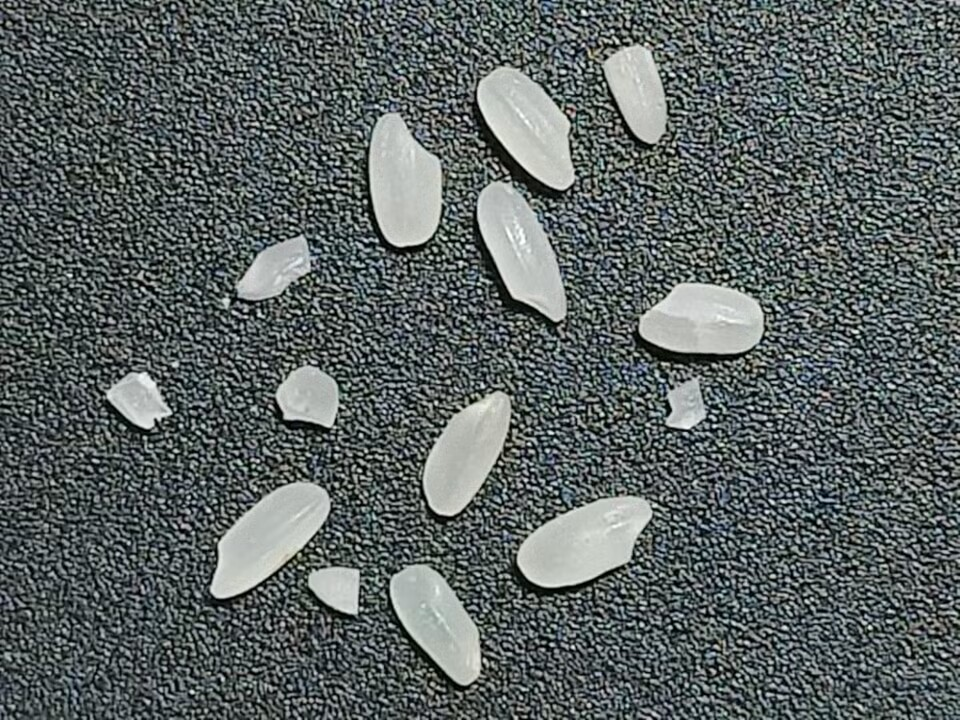broken: (234, 229, 315, 306), (270, 364, 338, 436), (102, 370, 174, 434), (303, 564, 364, 624), (659, 377, 706, 439)
rice: (203, 479, 331, 604), (470, 183, 570, 335), (469, 61, 580, 191), (515, 491, 657, 590), (383, 563, 489, 690), (632, 274, 783, 359), (416, 390, 515, 519), (364, 109, 445, 251), (601, 43, 673, 149)
